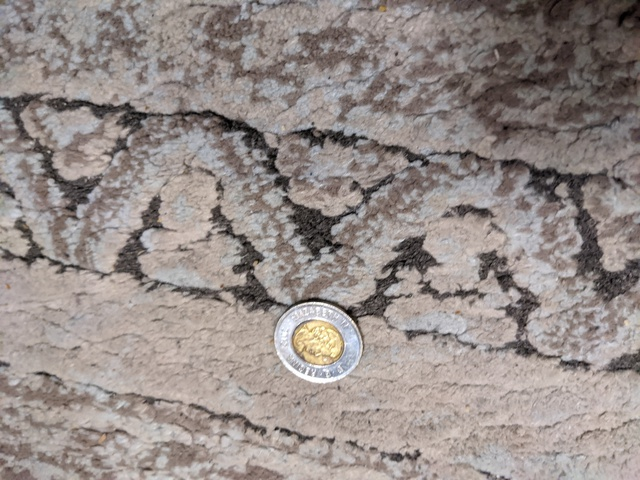twonie: (270, 281, 377, 388)
